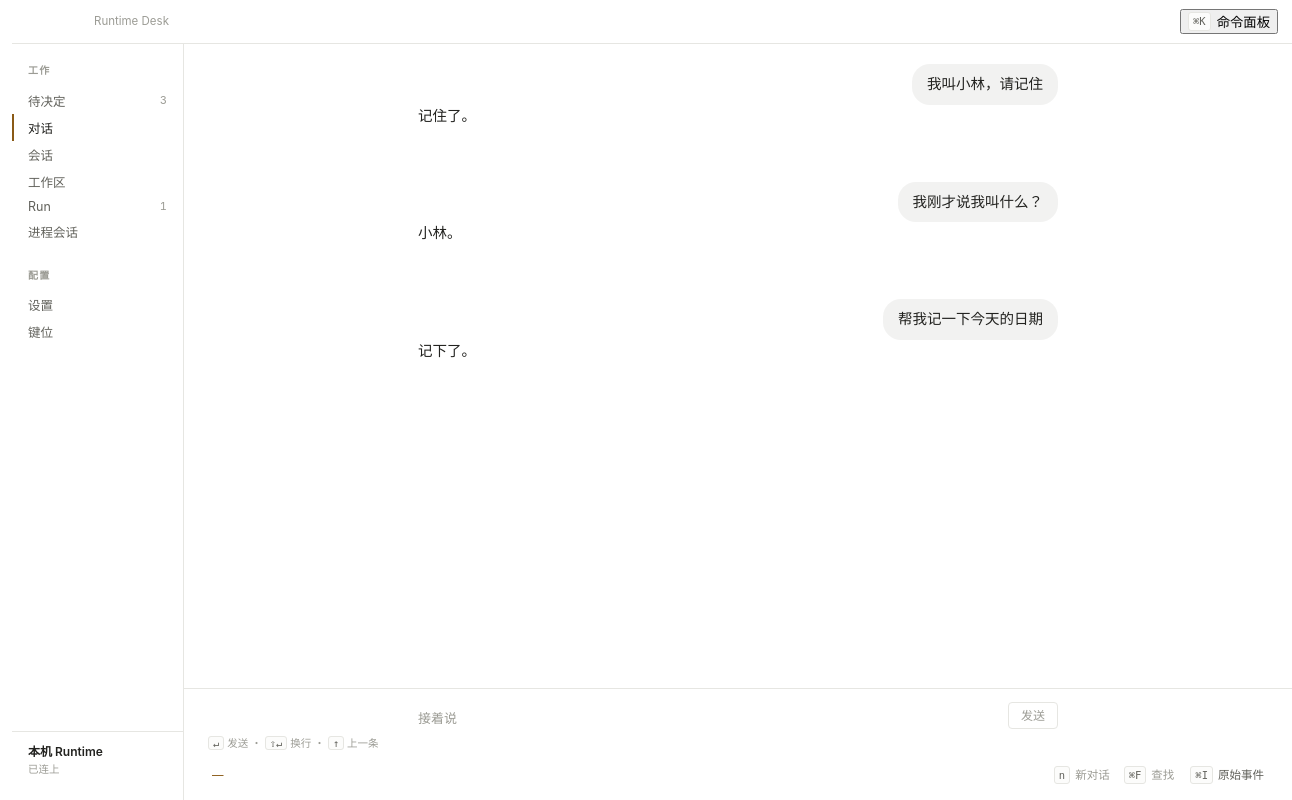
Test case: choosing the folder the agent works in › does not offer the choice when a variable is holding the folder
Click the button "工作区" at (98, 181), box [12, 168, 183, 194]
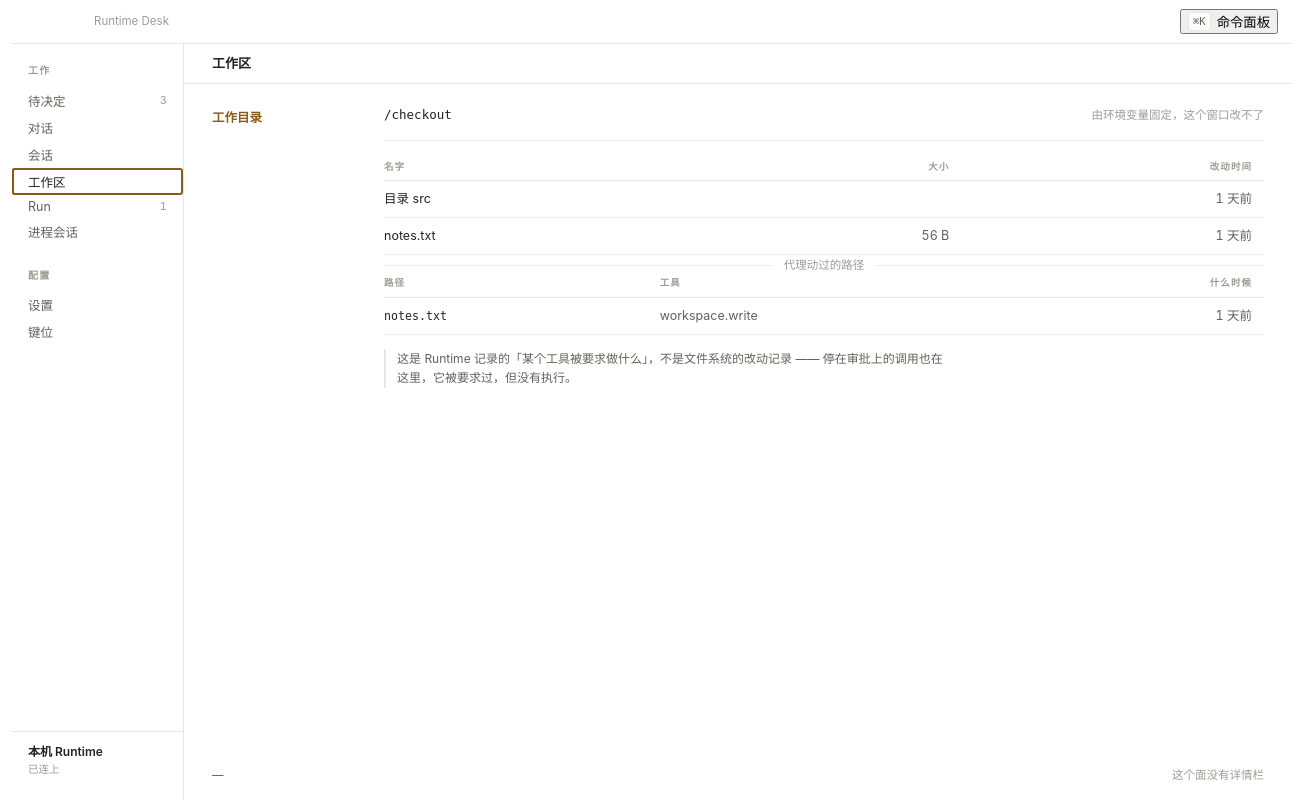
expect the text "由环境变量固定，这个窗口改不了" is shown: met, box [1092, 105, 1264, 125]
